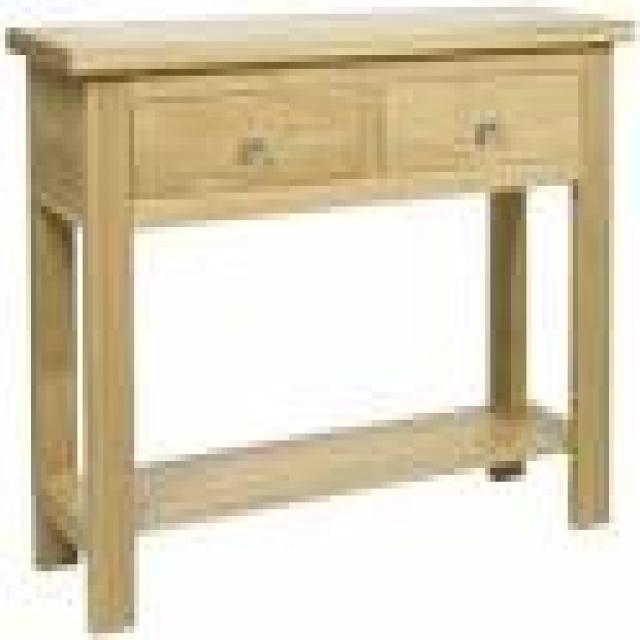table: (4, 9, 633, 635)
